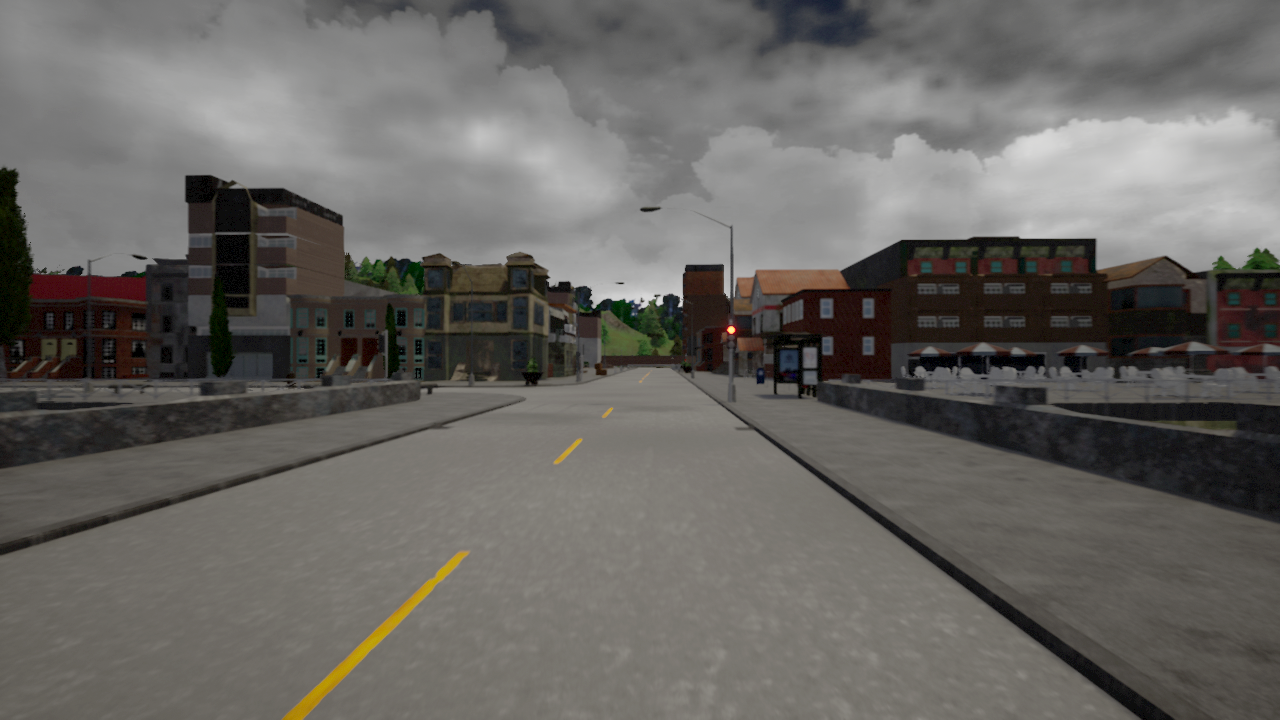red: (725, 325, 737, 350)
